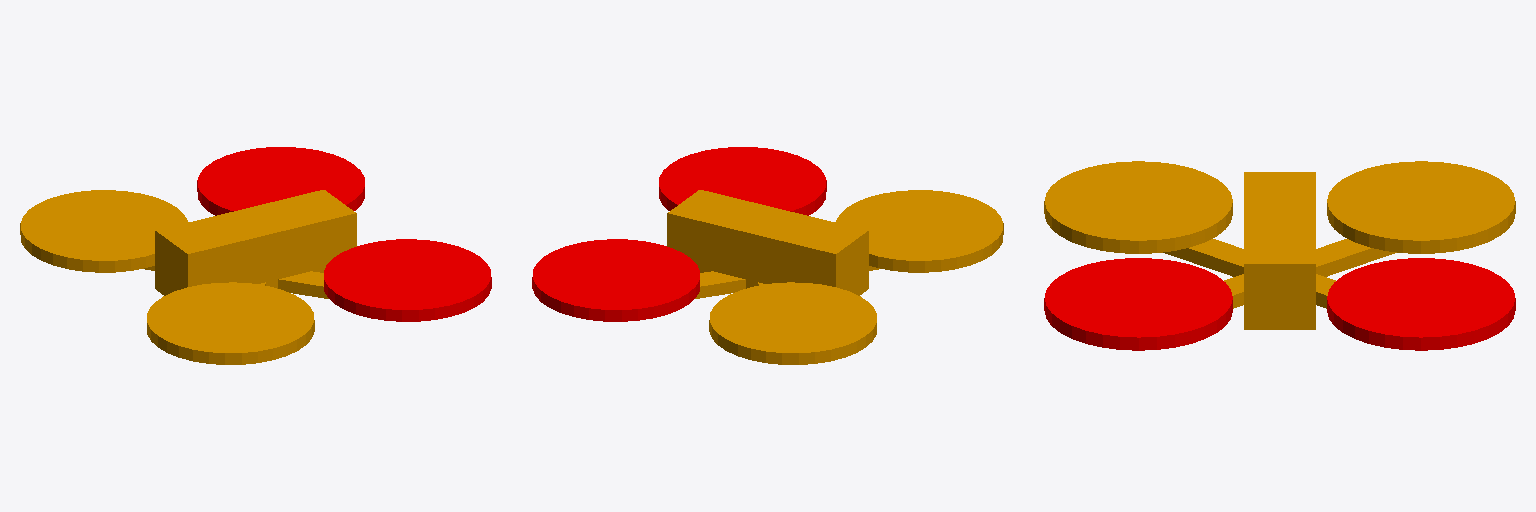
robot.urdf — kingfisher_250:
<?xml version='1.0' encoding='UTF-8'?>
<robot name="kingfisher_250">
    <link name="base">
        <inertial>
            <origin xyz="0.0 0.0 0.0" rpy="0.0 -0.0 0.0"/>
            <mass value="0.752"/>
            <inertia ixx="0.0025" ixy="0.0" ixz="0.0" iyy="0.0021" iyz="0.0" izz="0.0043"/>
        </inertial>
        <visual>
            <geometry>
                <box size="0.15 0.05 0.05"/>
            </geometry>
            <origin xyz="0.0 0.0 0.015" rpy="0.0 0.0 0.0"/>
        </visual>
        <visual>
            <geometry>
                <box size="0.25  0.023 0.01 "/>
            </geometry>
            <origin xyz="0.0 0.0 -0.005" rpy="0.0 0.0 0.8901179185171081"/>
        </visual>
        <visual>
            <geometry>
                <box size="0.25  0.023 0.01 "/>
            </geometry>
            <origin xyz="0.0 -0.0 -0.005" rpy="0.0 0.0 -0.8901179185171081"/>
        </visual>
        <visual>
            <geometry>
                <cylinder radius="0.0115" length="0.016"/>
            </geometry>
            <origin xyz="-0.07866504888122973 -0.09714324518212132 -0.002" rpy="0.0 0.0 0.0"/>
        </visual>
        <visual>
            <geometry>
                <cylinder radius="0.06477" length="0.01"/>
            </geometry>
            <origin xyz="-0.07866504888122973 -0.09714324518212132 0.011" rpy="0.0 0.0 0.0"/>
        </visual>
        <visual>
            <geometry>
                <cylinder radius="0.0115" length="0.016"/>
            </geometry>
            <origin xyz="0.07866504888122969 -0.09714324518212136 -0.002" rpy="0.0 0.0 0.0"/>
        </visual>
        <visual>
            <geometry>
                <cylinder radius="0.06477" length="0.01"/>
            </geometry>
            <material name="red"/>
            <origin xyz="0.07866504888122969 -0.09714324518212136 0.011" rpy="0.0 0.0 0.0"/>
        </visual>
        <visual>
            <geometry>
                <cylinder radius="0.0115" length="0.016"/>
            </geometry>
            <origin xyz="-0.07866504888122966 0.09714324518212138 -0.002" rpy="0.0 0.0 0.0"/>
        </visual>
        <visual>
            <geometry>
                <cylinder radius="0.06477" length="0.01"/>
            </geometry>
            <origin xyz="-0.07866504888122966 0.09714324518212138 0.011" rpy="0.0 0.0 0.0"/>
        </visual>
        <visual>
            <geometry>
                <cylinder radius="0.0115" length="0.016"/>
            </geometry>
            <origin xyz="0.07866504888122969 0.09714324518212136 -0.002" rpy="0.0 0.0 0.0"/>
        </visual>
        <visual>
            <geometry>
                <cylinder radius="0.06477" length="0.01"/>
            </geometry>
            <material name="red"/>
            <origin xyz="0.07866504888122969 0.09714324518212136 0.011" rpy="0.0 0.0 0.0"/>
        </visual>
        <collision>
            <geometry>
                <box size="0.2868701  0.32382649 0.05      "/>
            </geometry>
            <origin xyz="0.0 0.0 0.015" rpy="0.0 0.0 0.0"/>
        </collision>
    </link>
    <material name="red">
        <color rgba="1. 0. 0. 1."/>
    </material>
</robot>

--- Facts derived from the render (not from the file) ---
The picture shows the robot from 3 angles, left to right: view 1: azimuth 30°, elevation 25°; view 2: azimuth 150°, elevation 25°; view 3: azimuth 270°, elevation 25°; orthographic projection.
Robot: kingfisher_250 — 1 links, 0 joints (none); root link base; default pose: all joints at 0.
Visible links, largest first — view 1: base; view 2: base; view 3: base.
Link boxes in pixels (x1=…): base: x1=20, y1=147, x2=491, y2=364; base: x1=532, y1=147, x2=1003, y2=364; base: x1=1044, y1=161, x2=1515, y2=350.
Size in the robot's own frame: 0.2869 by 0.3238 by 0.05 metres.
Geometry: primitives only (box / cylinder / sphere), no mesh files.